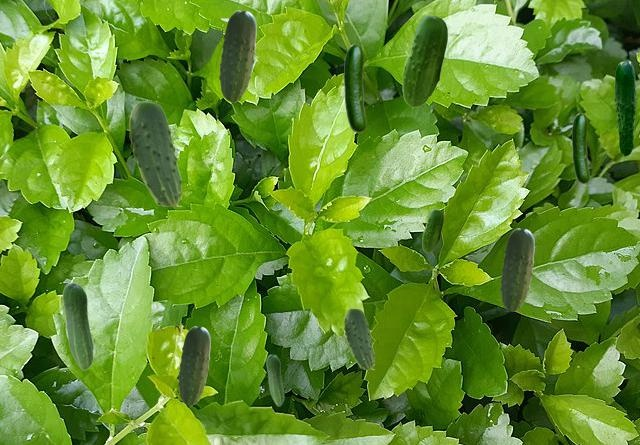cucumber: (129, 101, 180, 205), (402, 15, 446, 106), (219, 10, 255, 101), (500, 228, 533, 310), (62, 282, 93, 369), (178, 326, 209, 404), (614, 60, 636, 155), (344, 44, 365, 131), (344, 308, 373, 368), (572, 113, 588, 182), (266, 354, 283, 405), (422, 209, 442, 251)
